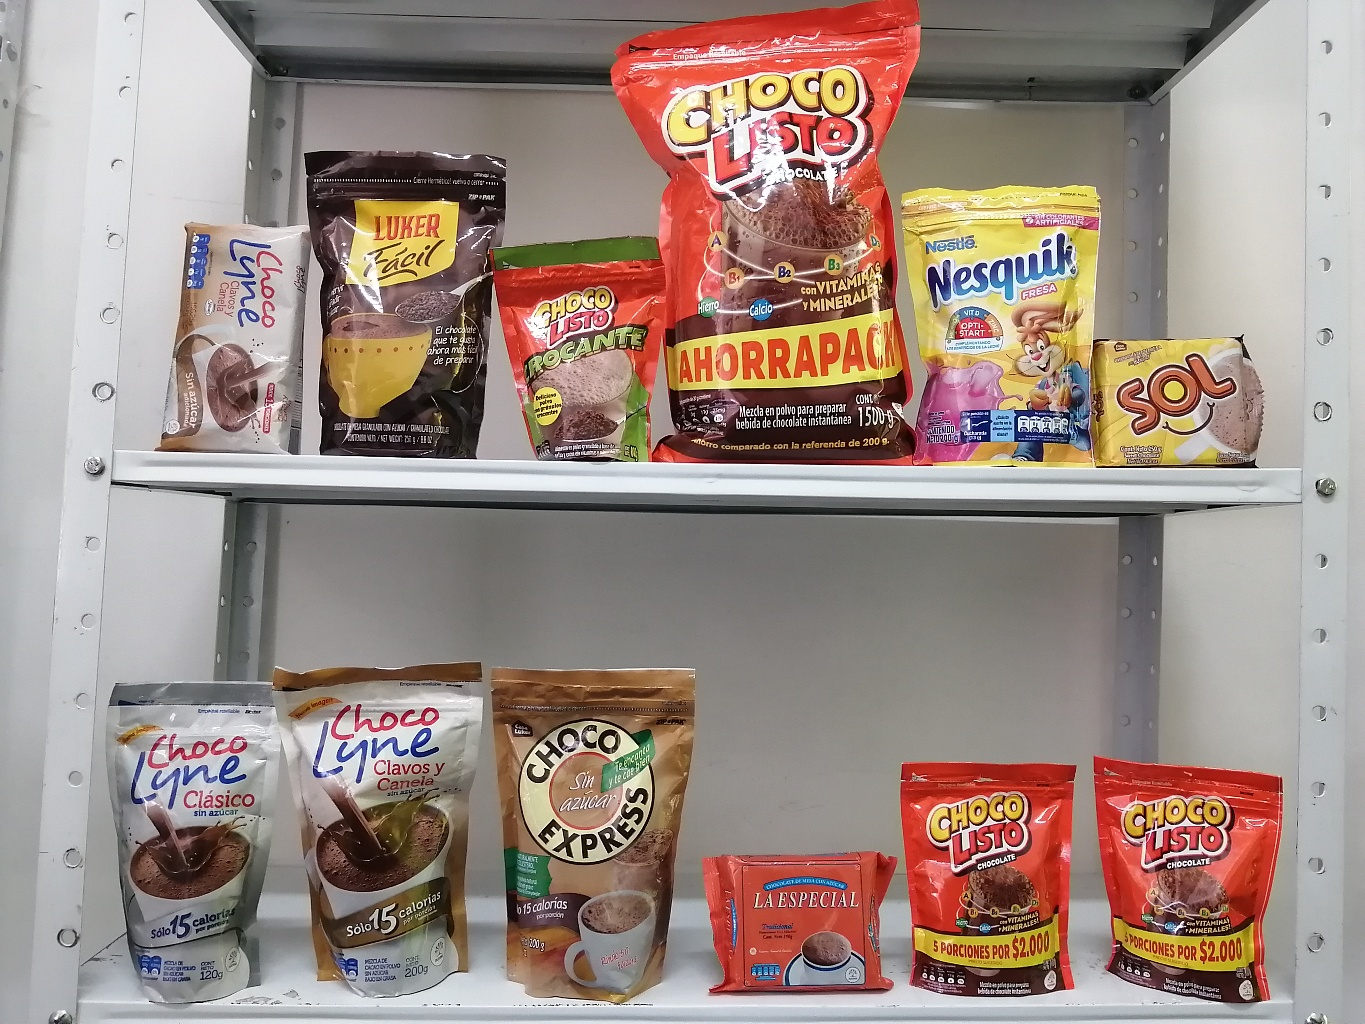COL0170102DYP10000: (471, 212, 667, 479)
COL0170103DYP1,500: (601, 9, 953, 475)
COL0170305DYP20000: (875, 151, 1117, 479)
